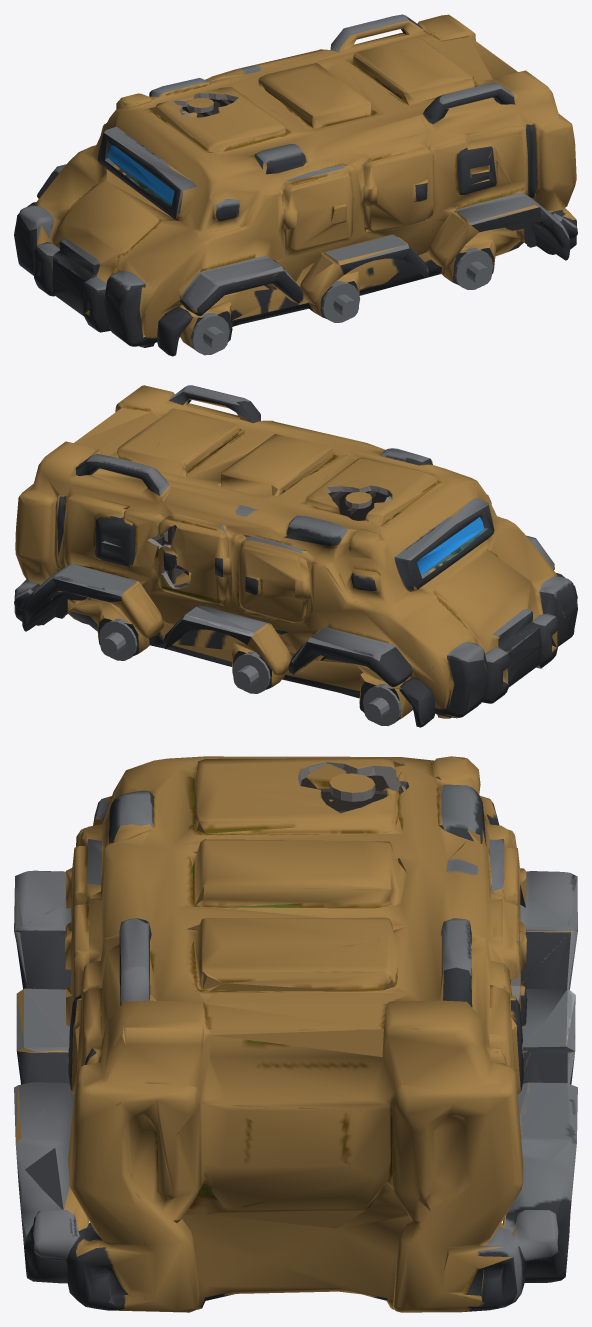
Rendered from OZ_APC_Wreck_V3.glb.
The picture shows the model from 3 angles, top to bottom: view 1: azimuth 30°, elevation 25°; view 2: azimuth 150°, elevation 25°; view 3: azimuth 270°, elevation 25°; orthographic projection. The views are drawn at different scales.
Visible parts, largest first — view 1: APC_Body_Wreck_V3; view 2: APC_Body_Wreck_V3, APC_Plate_V3_c, APC_Plate_V3_b; view 3: APC_Body_Wreck_V3, APC_Plate_V3_d.
Part boxes in pixels (<box>): APC_Body_Wreck_V3: <box>14,14,577,356</box>; APC_Body_Wreck_V3: <box>14,385,577,727</box>; APC_Plate_V3_c: <box>138,538,165,573</box>; APC_Plate_V3_b: <box>170,527,192,573</box>; APC_Body_Wreck_V3: <box>14,756,577,1312</box>; APC_Plate_V3_d: <box>329,773,375,801</box>.
Bounding box in the file's own units: 1.9 × 0.8045 × 1.19.
3 materials, 1 textured.
